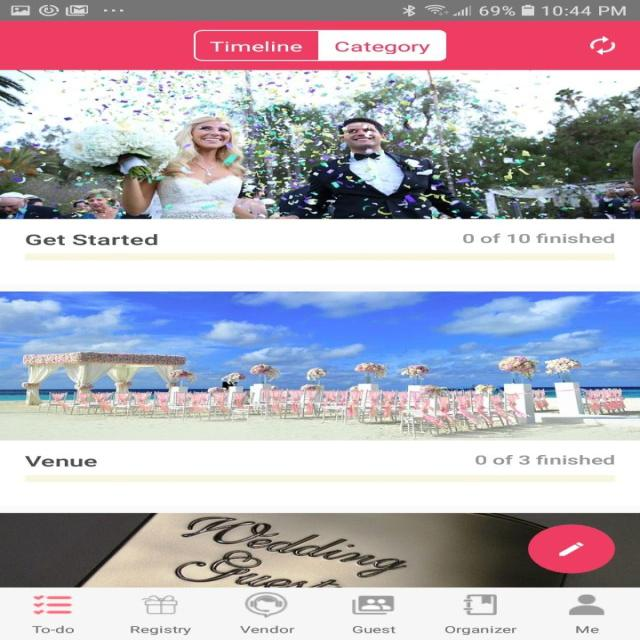Icon: (527, 524, 615, 573), (351, 595, 394, 615), (33, 594, 72, 614), (568, 594, 604, 615), (141, 594, 178, 614), (462, 594, 497, 615), (588, 36, 616, 56)
Image: (0, 291, 639, 440), (0, 70, 639, 219), (0, 512, 639, 587), (244, 592, 288, 618)
Text: (24, 233, 158, 246), (461, 232, 614, 243), (474, 454, 614, 464), (24, 456, 97, 466), (444, 625, 516, 635), (130, 625, 192, 635), (239, 625, 294, 633), (31, 625, 75, 633), (352, 625, 396, 633), (574, 625, 599, 633)
TextButton: (192, 29, 318, 62), (319, 30, 446, 62)
